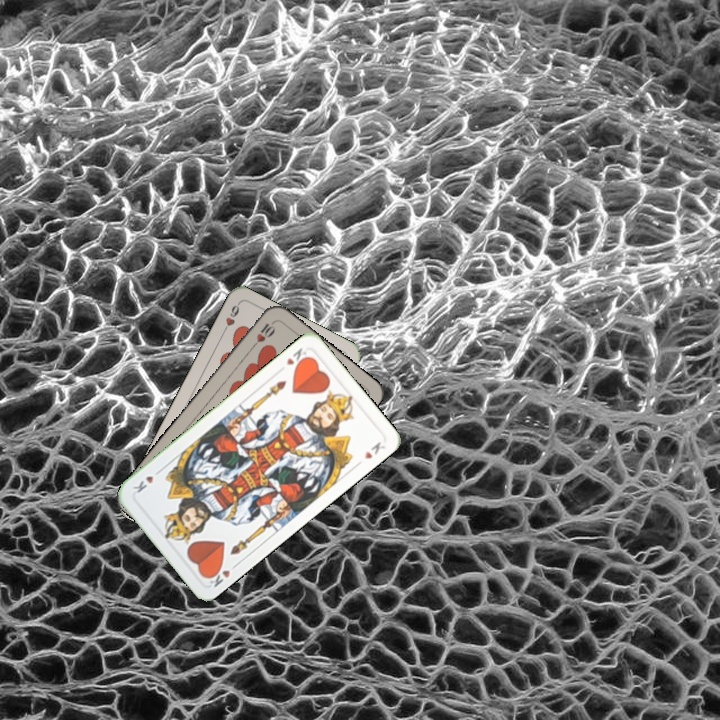H10: (247, 317, 278, 351)
H9: (218, 300, 242, 338)
HK: (202, 559, 241, 590), (282, 344, 313, 371)
